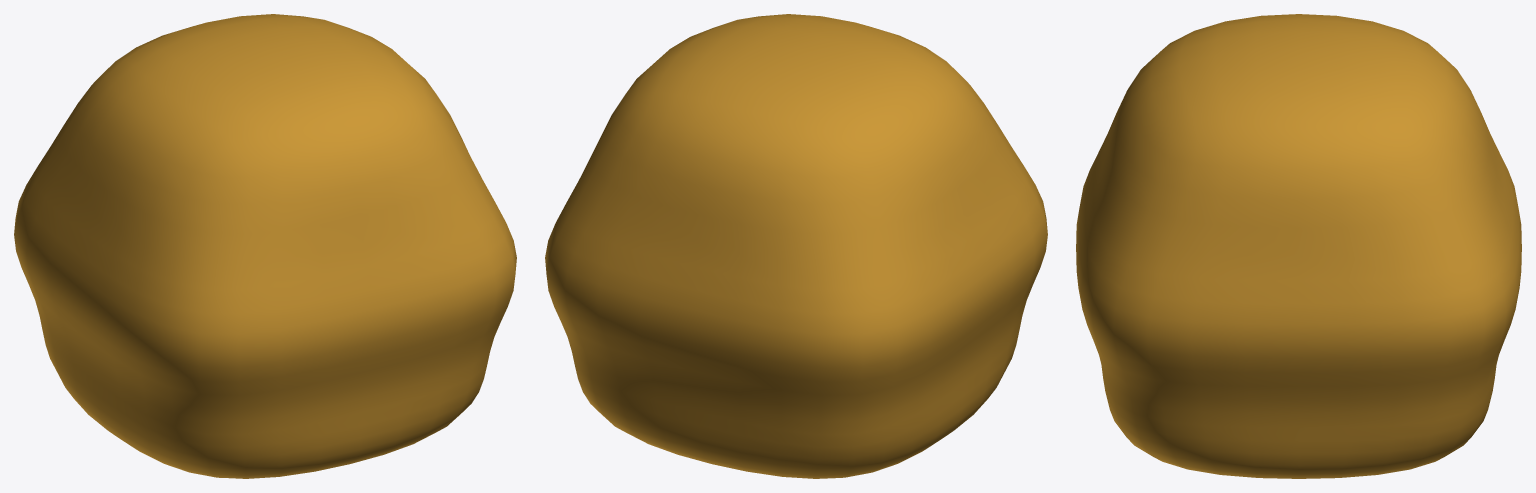
Rendered from SpongebobBurger.fbx.
3 views of the same model, side by side, from view 1: azimuth 30°, elevation 25°; view 2: azimuth 150°, elevation 25°; view 3: azimuth 270°, elevation 25° (orthographic).
Visible parts, largest first — view 1: Cube; view 2: Cube; view 3: Cube.
Boxes of the visible parts, left/top/right/bottom form: Cube: left=14, top=14, right=516, bottom=478; Cube: left=545, top=14, right=1047, bottom=478; Cube: left=1076, top=14, right=1521, bottom=478.
Size of the model in its own units: 226 by 208 by 225.
